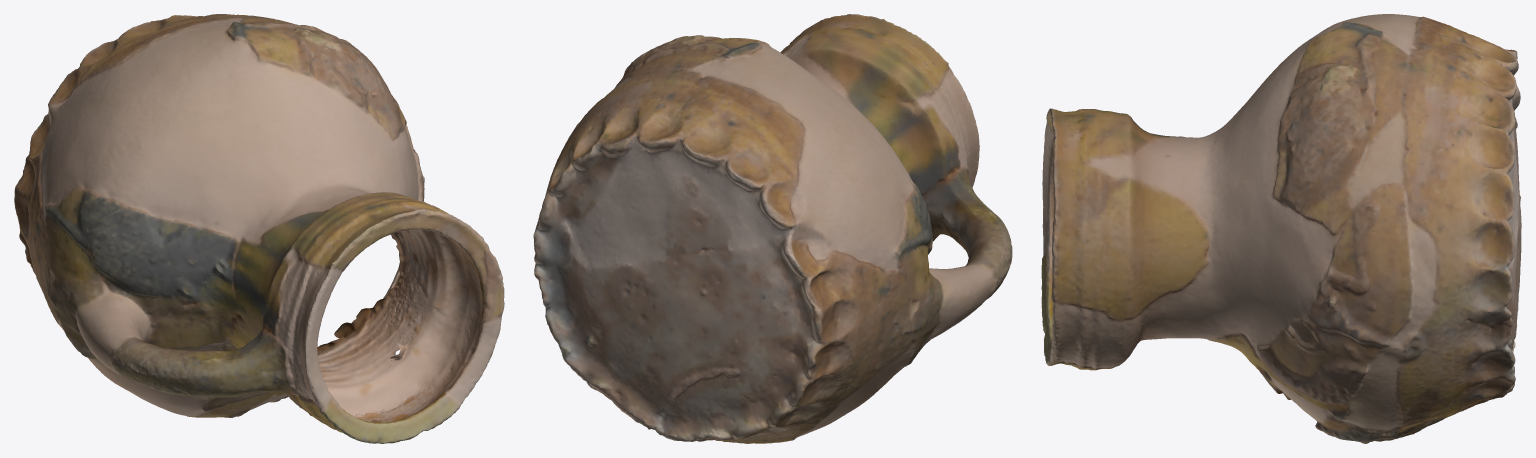
File: pot.glb
3 renders of one model, left to right at view 1: azimuth 30°, elevation 25°; view 2: azimuth 150°, elevation 25°; view 3: azimuth 270°, elevation 25°, orthographic. The views are drawn at different scales.
Parts seen in each view (by area): view 1: defaultobject; view 2: defaultobject; view 3: defaultobject.
Part boxes in pixels (x1,y1,x2,y2): defaultobject: (14, 14, 504, 443); defaultobject: (533, 14, 1012, 443); defaultobject: (1041, 14, 1521, 443).
Bounding box in the file's own units: 4.58 × 4.49 × 4.93.
